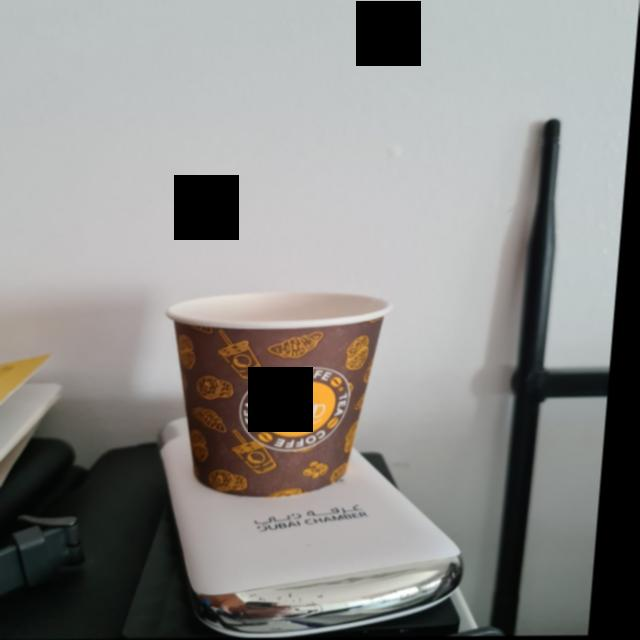cups: (153, 293, 408, 499)
